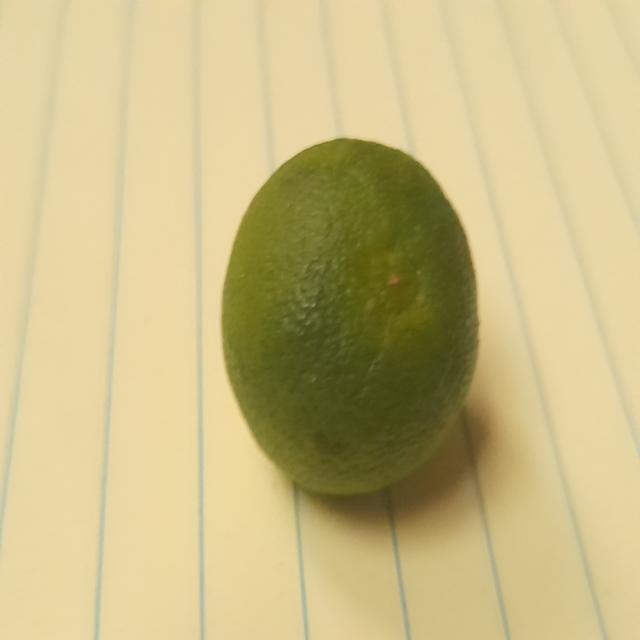heathy: (217, 136, 493, 500)
